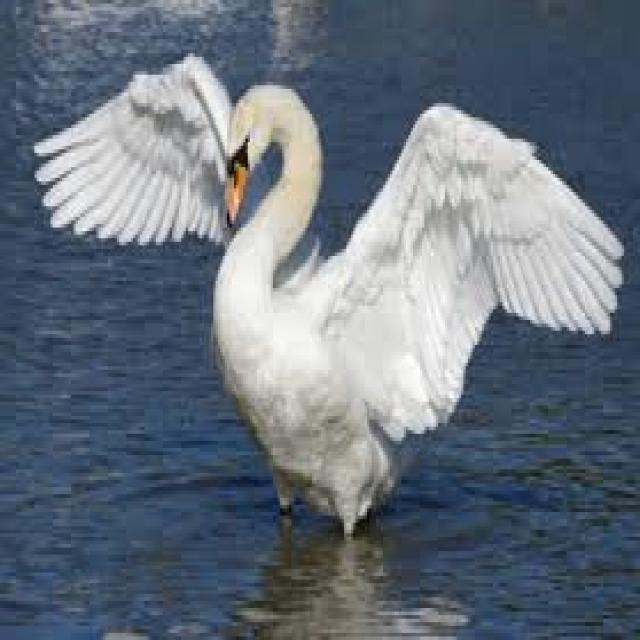swan: (37, 57, 624, 530)
